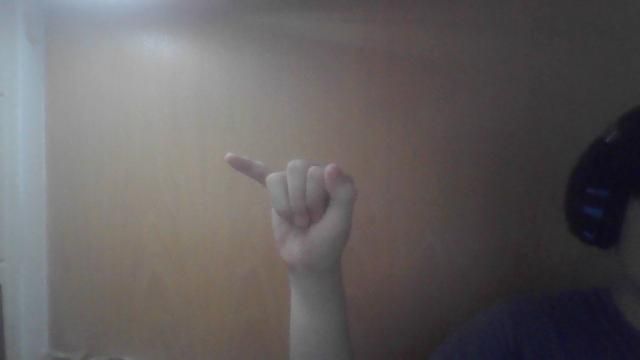Right: (220, 148, 354, 274)
